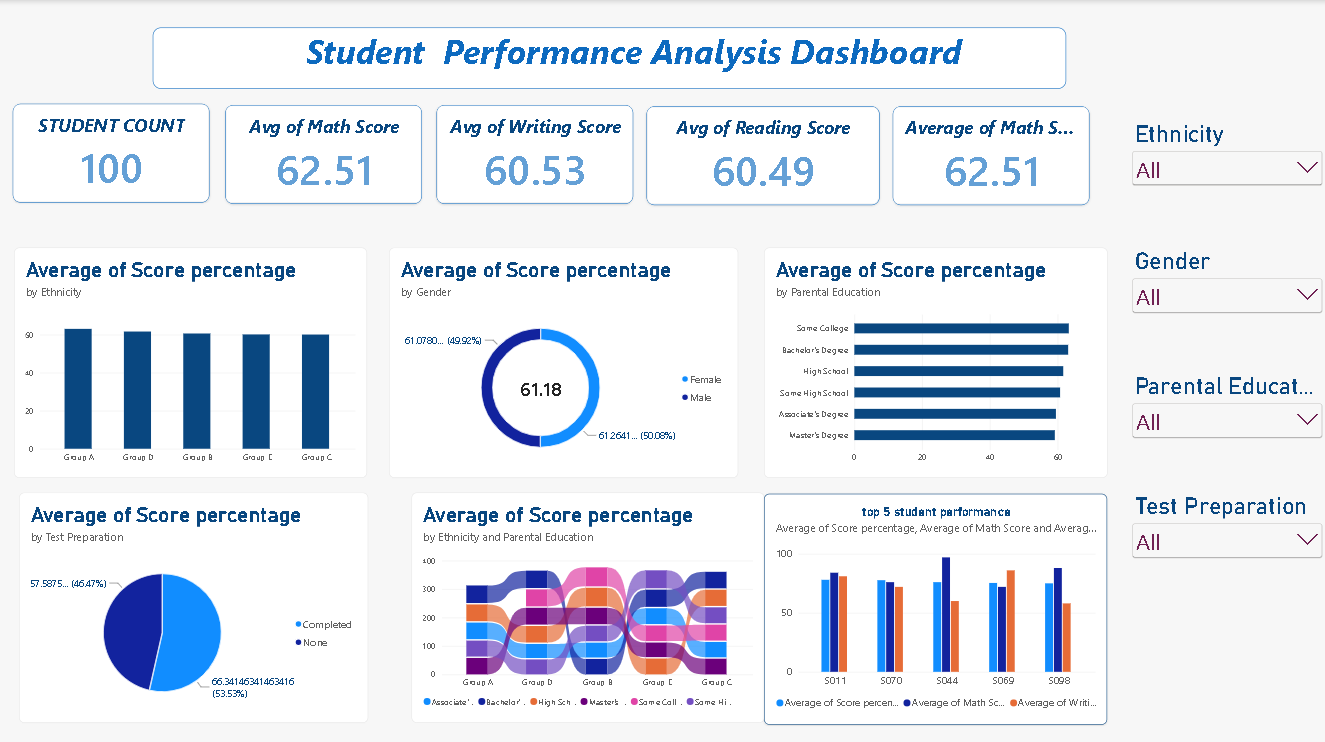

Layout of this report page (visuals, bound fields, positions):
{"tool":"powerbi","page":{"name":"Page 1","canvas":[1920,1080],"ordinal":0},"visuals":[{"type":"textbox","box":[222.4,40.4,1322.1,88.9],"z":0},{"type":"cardVisual","fields":{"Data":["Count(MARKS.Student ID)"]},"box":[20.2,149.6,285,143.5],"z":1},{"type":"cardVisual","fields":{"Data":["Avg(MARKS.Writing Score)"]},"box":[632.7,151.6,285,143.5],"z":3},{"type":"cardVisual","fields":{"Data":["Avg(MARKS.Reading Score)"]},"box":[938,153.6,337.6,143.5],"z":4},{"type":"cardVisual","fields":{"Data":["Avg(MARKS.Math Score)"]},"box":[1293.8,153.6,285,143.5],"z":5},{"type":"cardVisual","fields":{"Data":["Avg(MARKS.Math Score)"]},"box":[327.5,151.6,285,143.5],"z":6},{"type":"slicer","fields":{"Values":["MARKS.Ethnicity"]},"box":[1635.4,153.6,285,150],"z":7},{"type":"slicer","fields":{"Values":["MARKS.Gender"]},"box":[1635.4,357.8,285,150],"z":9},{"type":"columnChart","fields":{"Category":["MARKS.Ethnicity"],"Y":["Avg(MARKS.Score percentage)"]},"box":[22.2,357.8,511.4,333.5],"z":10},{"type":"slicer","fields":{"Values":["MARKS.Parental Education"]},"box":[1635.4,539.7,285,150],"z":11},{"type":"donutChart","fields":{"Category":["MARKS.Gender"],"Y":["Avg(MARKS.Score percentage)"]},"box":[564,357.8,505.4,333.5],"z":12},{"type":"clusteredBarChart","fields":{"Category":["MARKS.Parental Education"],"Y":["Avg(MARKS.Score percentage)"]},"box":[1107.8,357.8,497.3,333.5],"z":13},{"type":"pieChart","fields":{"Category":["MARKS.Test Preparation"],"Y":["Avg(MARKS.Score percentage)"]},"box":[28.3,713.6,505.4,333.5],"z":14},{"type":"ribbonChart","fields":{"Category":["MARKS.Ethnicity"],"Series":["MARKS.Parental Education"],"Y":["Avg(MARKS.Score percentage)"]},"box":[596.3,713.6,511.4,333.5],"z":15},{"type":"slicer","fields":{"Values":["MARKS.Test Preparation"]},"box":[1635.4,713.6,285,150],"z":16},{"type":"clusteredColumnChart","title":"top 5 student performance ","fields":{"Category":["MARKS.Student ID"],"Y":["Avg(MARKS.Score percentage)","Avg(MARKS.Math Score)","Avg(MARKS.Writing Score)"]},"box":[1108,714,497,334],"z":17}]}

Visuals, with their boxes in screenshot pixels (x1, y1, x2, y2), scaled from the page's 1920x1080 canvas onto the 1325x742 screenshot:
textbox: {"x1": 153, "y1": 28, "x2": 1066, "y2": 89}
cardVisual - Count(MARKS.Student ID): {"x1": 14, "y1": 103, "x2": 211, "y2": 201}
cardVisual - Avg(MARKS.Writing Score): {"x1": 437, "y1": 104, "x2": 633, "y2": 203}
cardVisual - Avg(MARKS.Reading Score): {"x1": 647, "y1": 106, "x2": 880, "y2": 204}
cardVisual - Avg(MARKS.Math Score): {"x1": 893, "y1": 106, "x2": 1090, "y2": 204}
cardVisual - Avg(MARKS.Math Score): {"x1": 226, "y1": 104, "x2": 423, "y2": 203}
slicer - MARKS.Ethnicity: {"x1": 1129, "y1": 106, "x2": 1324, "y2": 209}
slicer - MARKS.Gender: {"x1": 1129, "y1": 246, "x2": 1324, "y2": 349}
columnChart - MARKS.Ethnicity x Avg(MARKS.Score percentage): {"x1": 15, "y1": 246, "x2": 368, "y2": 475}
slicer - MARKS.Parental Education: {"x1": 1129, "y1": 371, "x2": 1324, "y2": 474}
donutChart - MARKS.Gender x Avg(MARKS.Score percentage): {"x1": 389, "y1": 246, "x2": 738, "y2": 475}
clusteredBarChart - MARKS.Parental Education x Avg(MARKS.Score percentage): {"x1": 764, "y1": 246, "x2": 1108, "y2": 475}
pieChart - MARKS.Test Preparation x Avg(MARKS.Score percentage): {"x1": 20, "y1": 490, "x2": 368, "y2": 719}
ribbonChart - MARKS.Ethnicity x MARKS.Parental Education: {"x1": 412, "y1": 490, "x2": 764, "y2": 719}
slicer - MARKS.Test Preparation: {"x1": 1129, "y1": 490, "x2": 1324, "y2": 593}
"top 5 student performance " clusteredColumnChart: {"x1": 765, "y1": 491, "x2": 1108, "y2": 720}
